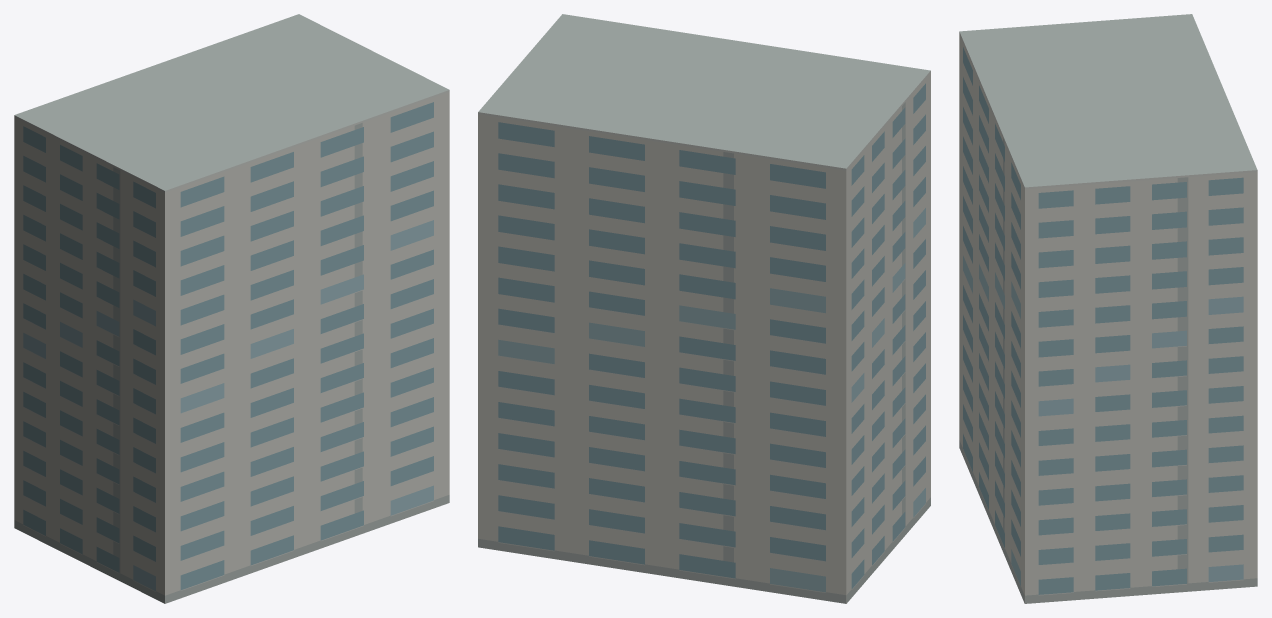
Rendered from residential-0ea46e91-bf45-4733-b70e-192db6c6d6c7.glb.
The picture shows the model from 3 angles, left to right: view 1: azimuth 30°, elevation 25°; view 2: azimuth 150°, elevation 25°; view 3: azimuth 270°, elevation 25°; orthographic projection. The views are drawn at different scales.
Parts seen in each view (by area): view 1: residential-0ea46e91-bf45-4733-b70e-192db6c6d6c7.tmp; view 2: residential-0ea46e91-bf45-4733-b70e-192db6c6d6c7.tmp; view 3: residential-0ea46e91-bf45-4733-b70e-192db6c6d6c7.tmp.
Boxes of the visible parts, bbox=[...] form: residential-0ea46e91-bf45-4733-b70e-192db6c6d6c7.tmp: bbox=[14, 14, 449, 603]; residential-0ea46e91-bf45-4733-b70e-192db6c6d6c7.tmp: bbox=[478, 14, 930, 603]; residential-0ea46e91-bf45-4733-b70e-192db6c6d6c7.tmp: bbox=[959, 14, 1257, 603].
Bounding box in the file's own units: 45.56 × 51 × 33.1.
